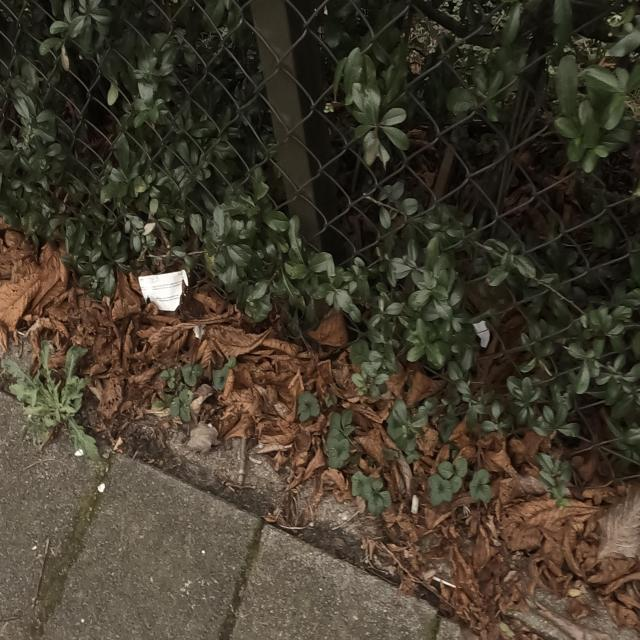Paper: (136, 272, 193, 314)
